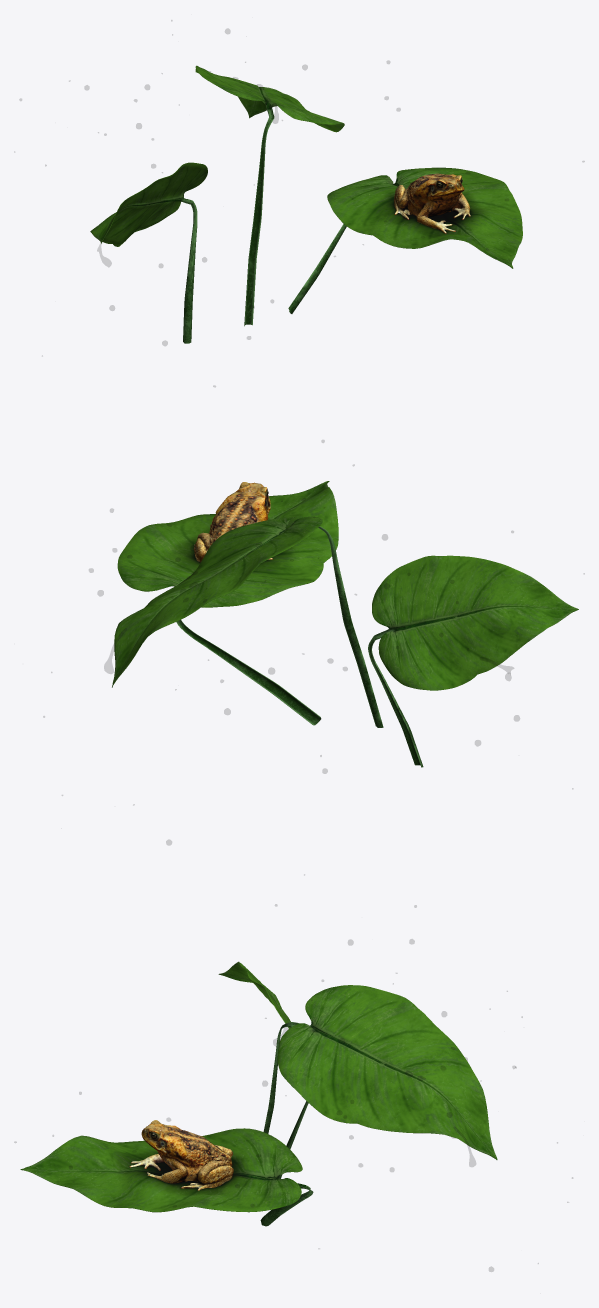
3 views of the same model, one above another, from view 1: azimuth 30°, elevation 25°; view 2: azimuth 150°, elevation 25°; view 3: azimuth 270°, elevation 25° (orthographic). The views are drawn at different scales.
Visible parts, largest first — view 1: MainLeaf, Leaves, Frog_low, Raindrops; view 2: Leaves, MainLeaf, Frog_low, Raindrops; view 3: Leaves, MainLeaf, Frog_low, Raindrops.
Boxes of the visible parts, bbox=[...] form: MainLeaf: bbox=[327, 167, 522, 268]; Leaves: bbox=[90, 65, 512, 343]; Frog_low: bbox=[394, 173, 470, 233]; Raindrops: bbox=[20, 20, 584, 345]; Leaves: bbox=[112, 481, 578, 767]; MainLeaf: bbox=[117, 481, 338, 607]; Frog_low: bbox=[193, 482, 272, 562]; Raindrops: bbox=[43, 386, 584, 844]; Leaves: bbox=[22, 961, 497, 1226]; MainLeaf: bbox=[20, 1128, 305, 1212]; Frog_low: bbox=[129, 1120, 233, 1190]; Raindrops: bbox=[14, 904, 572, 1271].
Size of the model in its own units: 0.7257 by 0.396 by 0.7628.
Materials: 4 (3 with a texture image).
